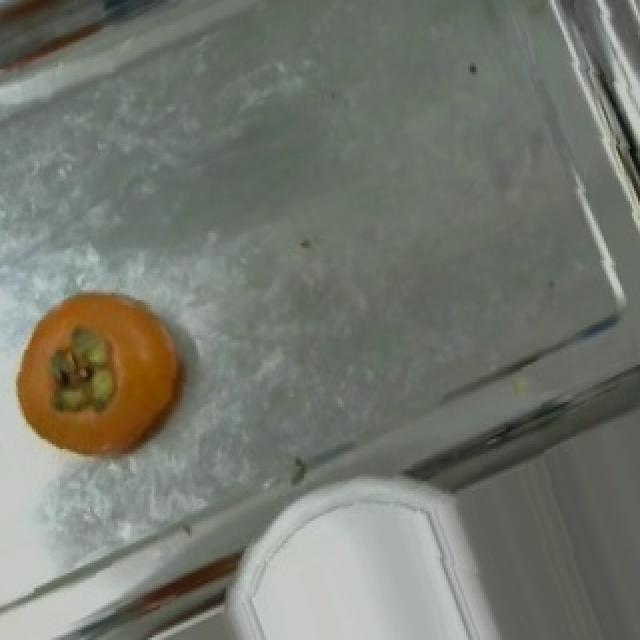Fruit: (0, 273, 206, 486), (232, 469, 482, 640)
